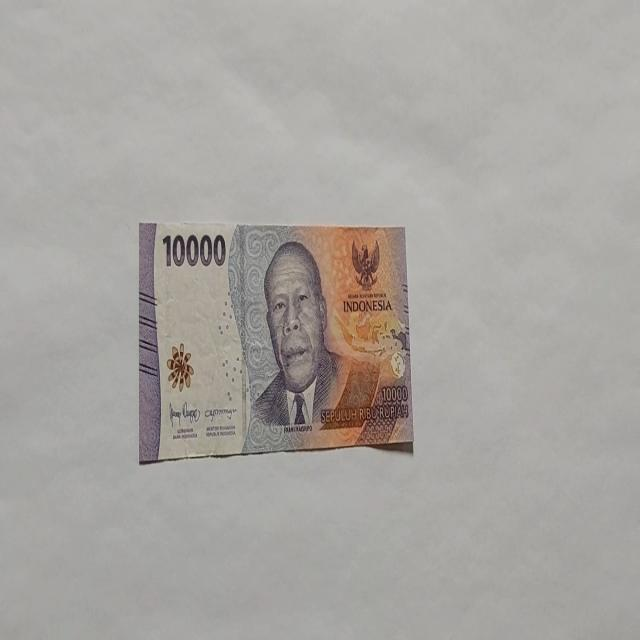sepuluh ribu rupiah: (138, 218, 414, 464)
